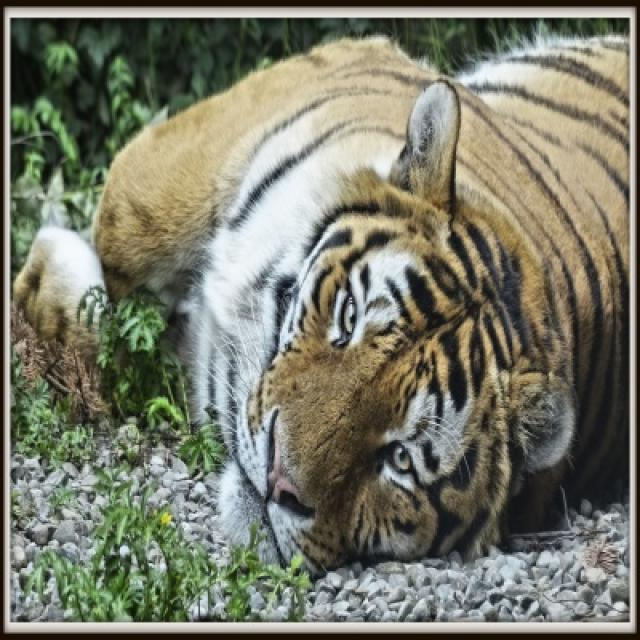Tiger: (17, 38, 629, 570)
